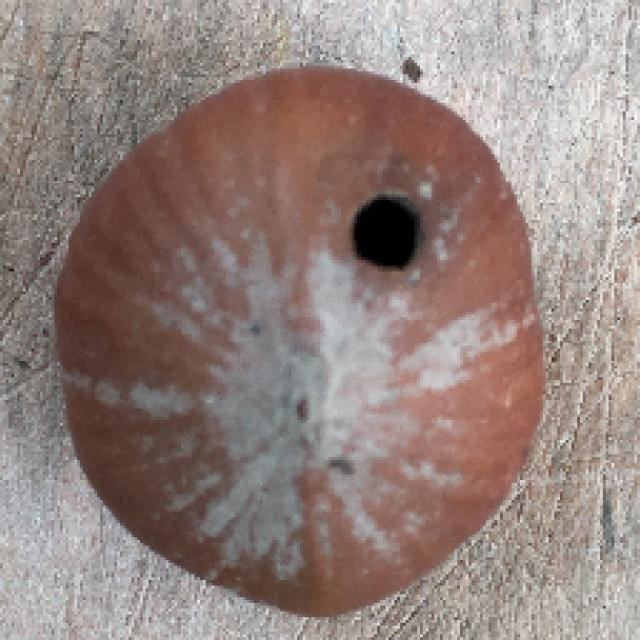damagedHazelnut: (47, 49, 552, 632)
